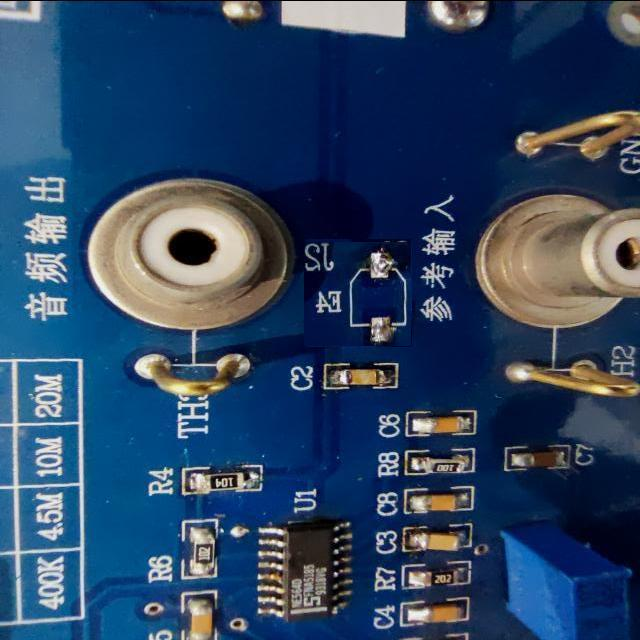miss_welding: (305, 240, 412, 347)
